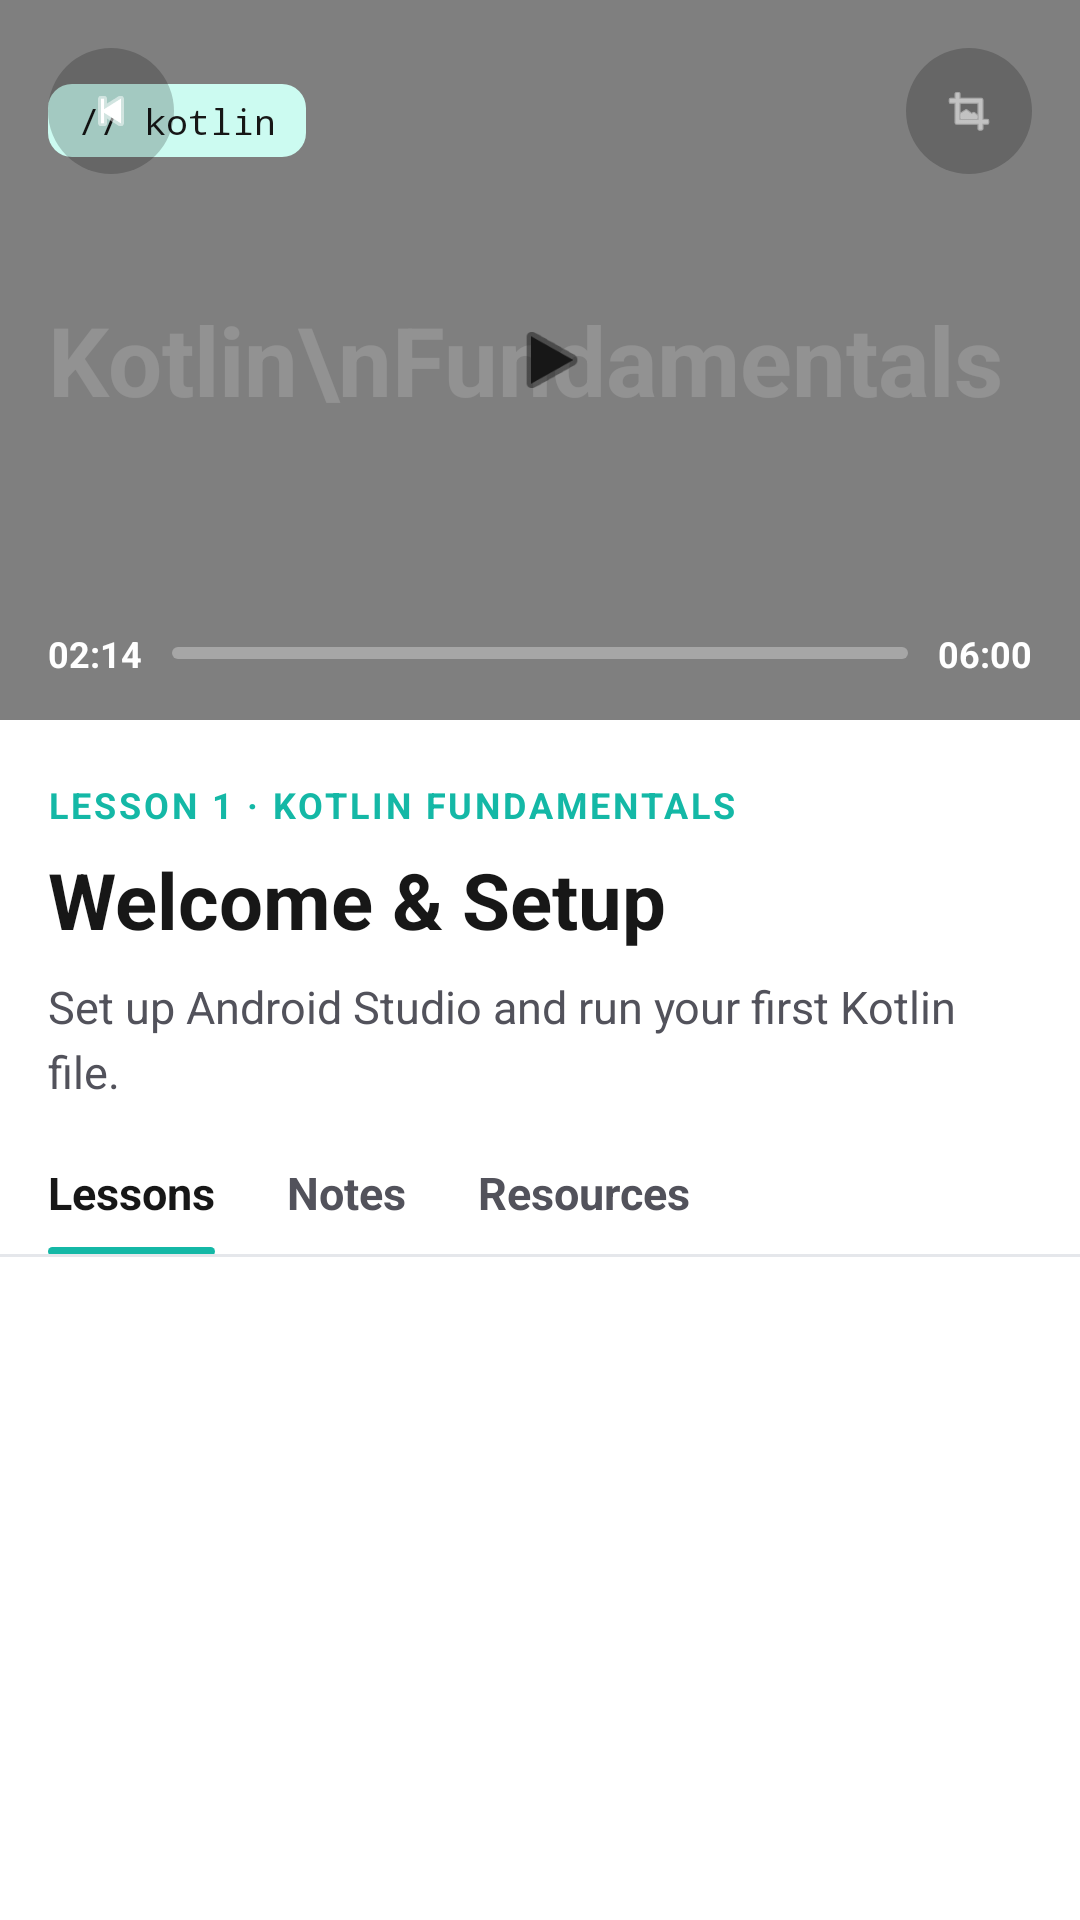

Screen size 1080px x 1920px. Icon name, then its box in pixels as (x1, y1, x2, y2):
Play: (527, 332, 577, 388)
